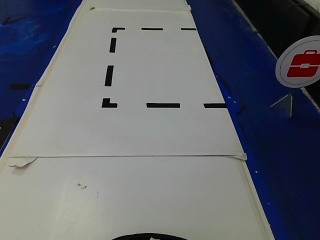company: (276, 38, 318, 94)
